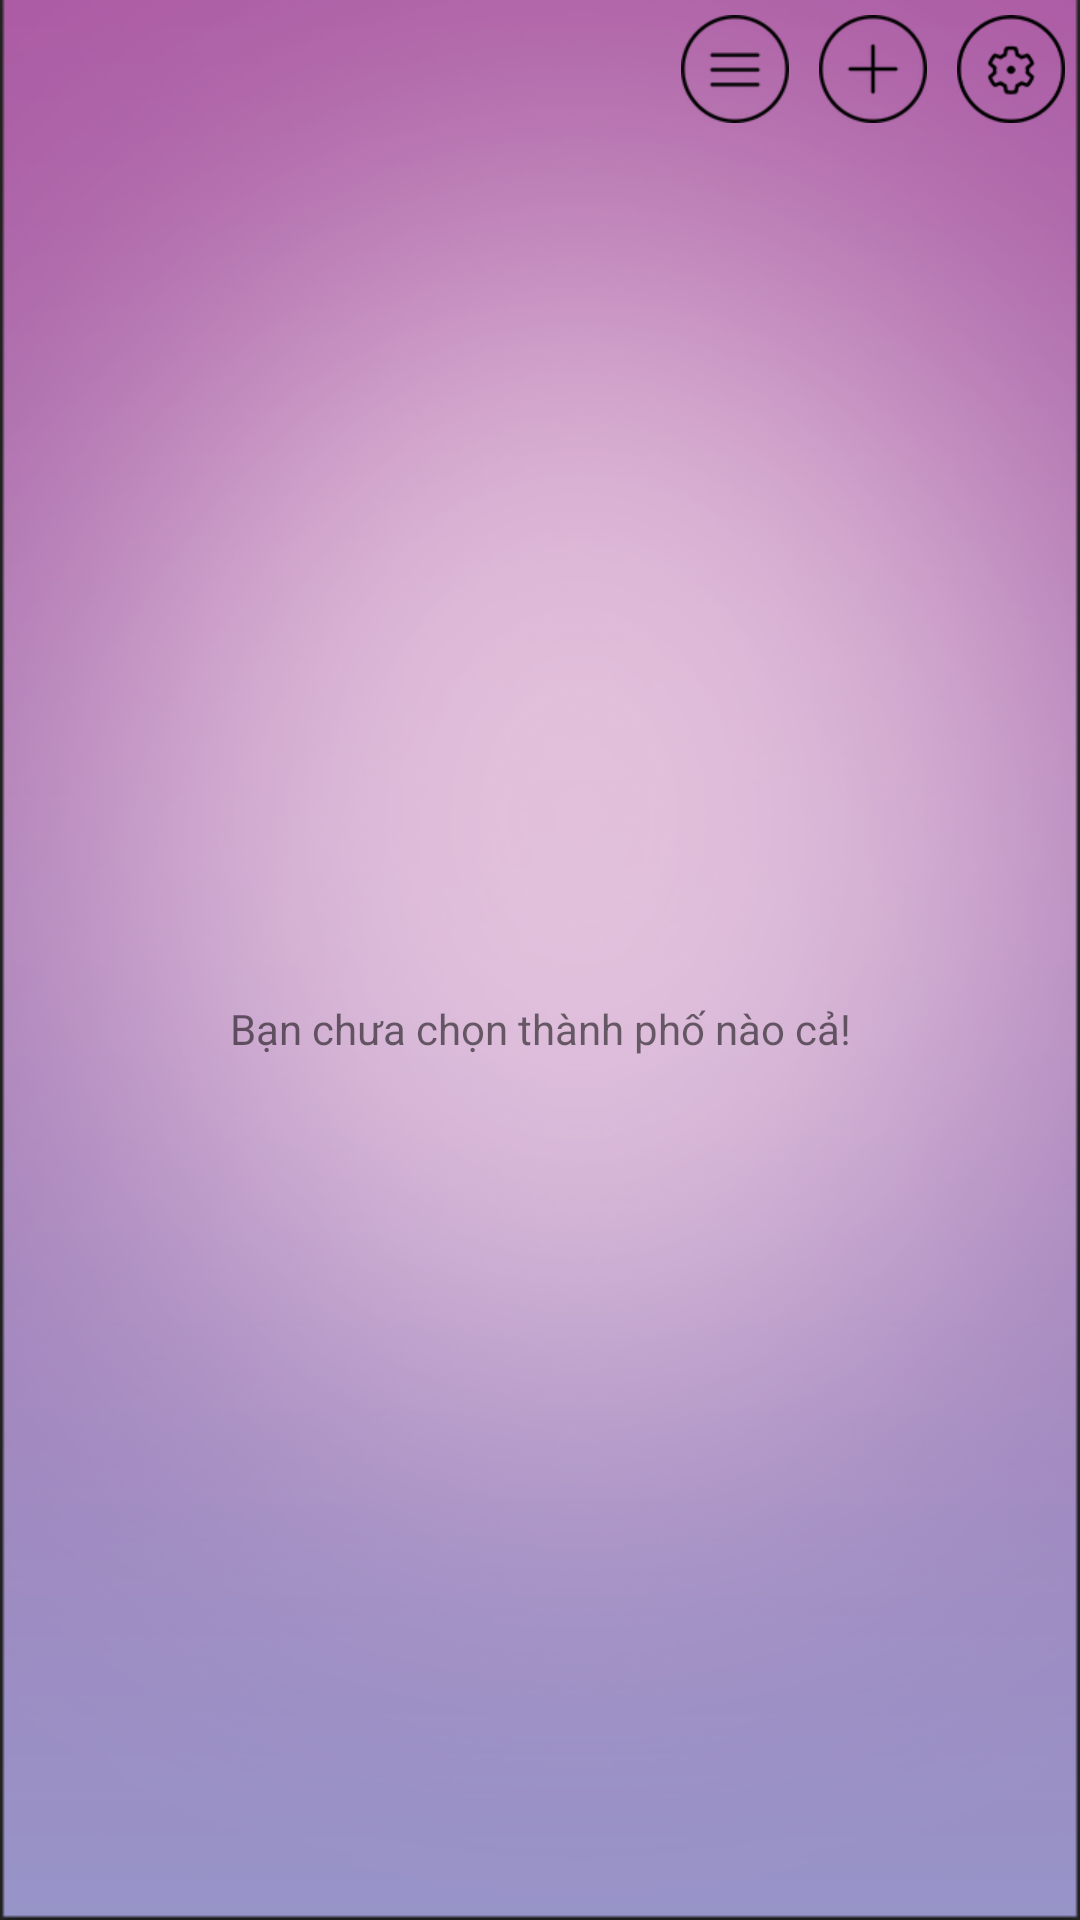

Locate icon controls on the screen. Image size 1080x1920, boxes as (x1, y1, x2, y2).
add: (819, 15, 927, 123)
menu: (681, 15, 789, 123)
setting: (957, 15, 1065, 123)
